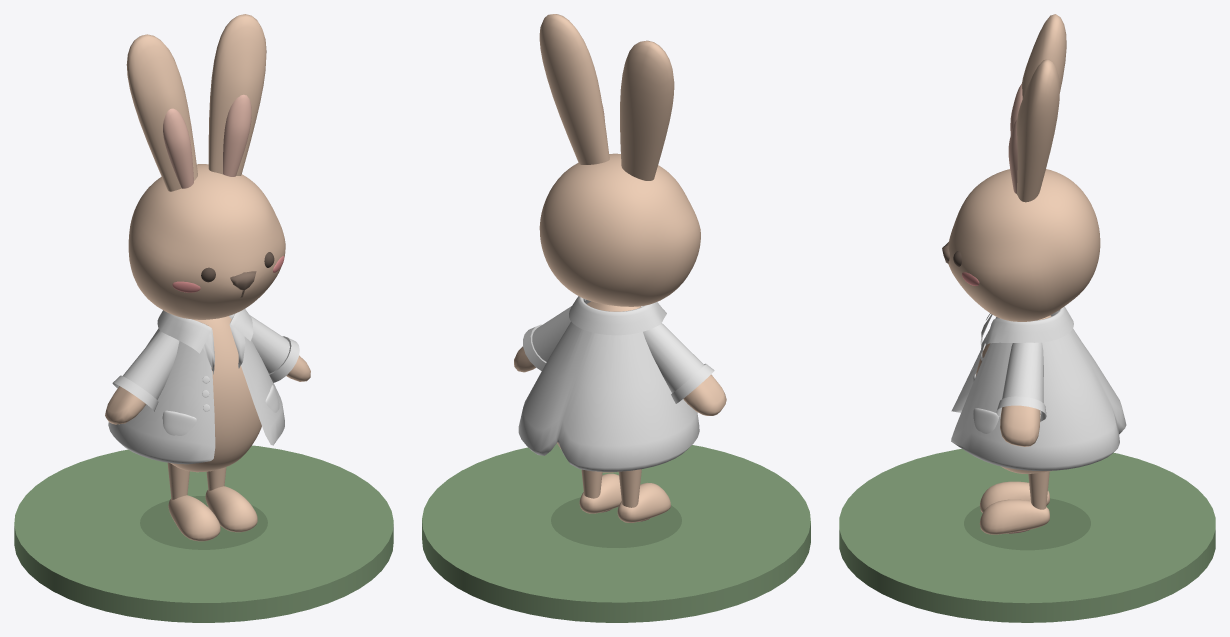
The model's file is rab2_0.fbx.
The picture shows the model from 3 angles, left to right: view 1: azimuth 30°, elevation 25°; view 2: azimuth 150°, elevation 25°; view 3: azimuth 270°, elevation 25°; orthographic projection. The views are drawn at different scales.
Parts seen in each view (by area): view 1: floor, head, tee, BODY, pasted__pCube3, pCube3, t_l, t_head, pasted__pasted__pCube4, pasted__foot, pasted__pCube4, foot (+2 smaller); view 2: floor, head, tee, pasted__pCube3, pCube3, t_l, t_head, BODY, pasted__foot, foot, pasted__leg; view 3: floor, head, tee, pasted__pCube3, t_l, t_head, foot, pCube3, BODY, pasted__foot, leg, pCube6.
Boxes of the visible parts, left/top/right/bottom form: floor: left=14, top=445, right=393, bottom=622; head: left=128, top=164, right=285, bottom=319; tee: left=108, top=314, right=284, bottom=464; BODY: left=105, top=316, right=310, bottom=472; pasted__pCube3: left=208, top=14, right=266, bottom=175; pCube3: left=126, top=34, right=197, bottom=191; t_l: left=112, top=314, right=299, bottom=411; t_head: left=157, top=309, right=253, bottom=374; pasted__pasted__pCube4: left=223, top=94, right=251, bottom=176; pasted__foot: left=168, top=495, right=220, bottom=541; pasted__pCube4: left=163, top=108, right=193, bottom=188; foot: left=205, top=486, right=257, bottom=532; floor: left=422, top=443, right=810, bottom=622; head: left=539, top=153, right=700, bottom=306; tee: left=518, top=299, right=699, bottom=471; pasted__pCube3: left=539, top=14, right=609, bottom=164; pCube3: left=620, top=40, right=674, bottom=180; t_l: left=523, top=300, right=714, bottom=403; t_head: left=569, top=296, right=666, bottom=335; BODY: left=514, top=301, right=726, bottom=472; pasted__foot: left=617, top=482, right=670, bottom=522; foot: left=579, top=473, right=621, bottom=513; pasted__leg: left=618, top=469, right=641, bottom=507; floor: left=839, top=449, right=1215, bottom=622; head: left=948, top=169, right=1100, bottom=321; tee: left=951, top=311, right=1126, bottom=470; pasted__pCube3: left=1016, top=59, right=1059, bottom=202; t_l: left=996, top=342, right=1046, bottom=421; t_head: left=980, top=306, right=1073, bottom=360; foot: left=979, top=499, right=1049, bottom=534; pCube3: left=1022, top=14, right=1066, bottom=98; BODY: left=976, top=315, right=1052, bottom=473; pasted__foot: left=979, top=481, right=1049, bottom=512; leg: left=1028, top=471, right=1049, bottom=509; pCube6: left=973, top=373, right=999, bottom=433.
Bounding box in the file's own units: 14.92 × 22.07 × 14.89.
